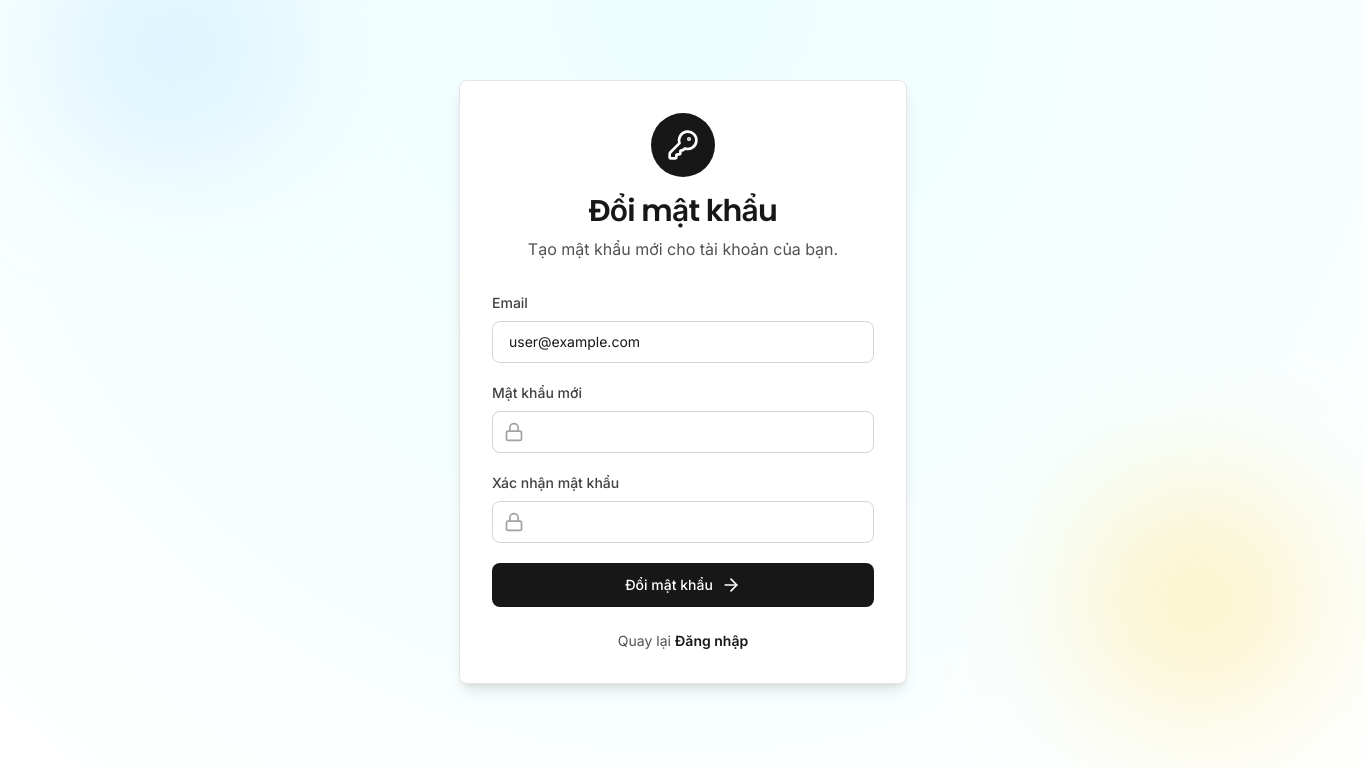
ResetPasswordPage › hien thi loi khi xac nhan mat khau khong khop
Type "12345" into the 1st password field at (683, 432), box 492,411 -> 874,453
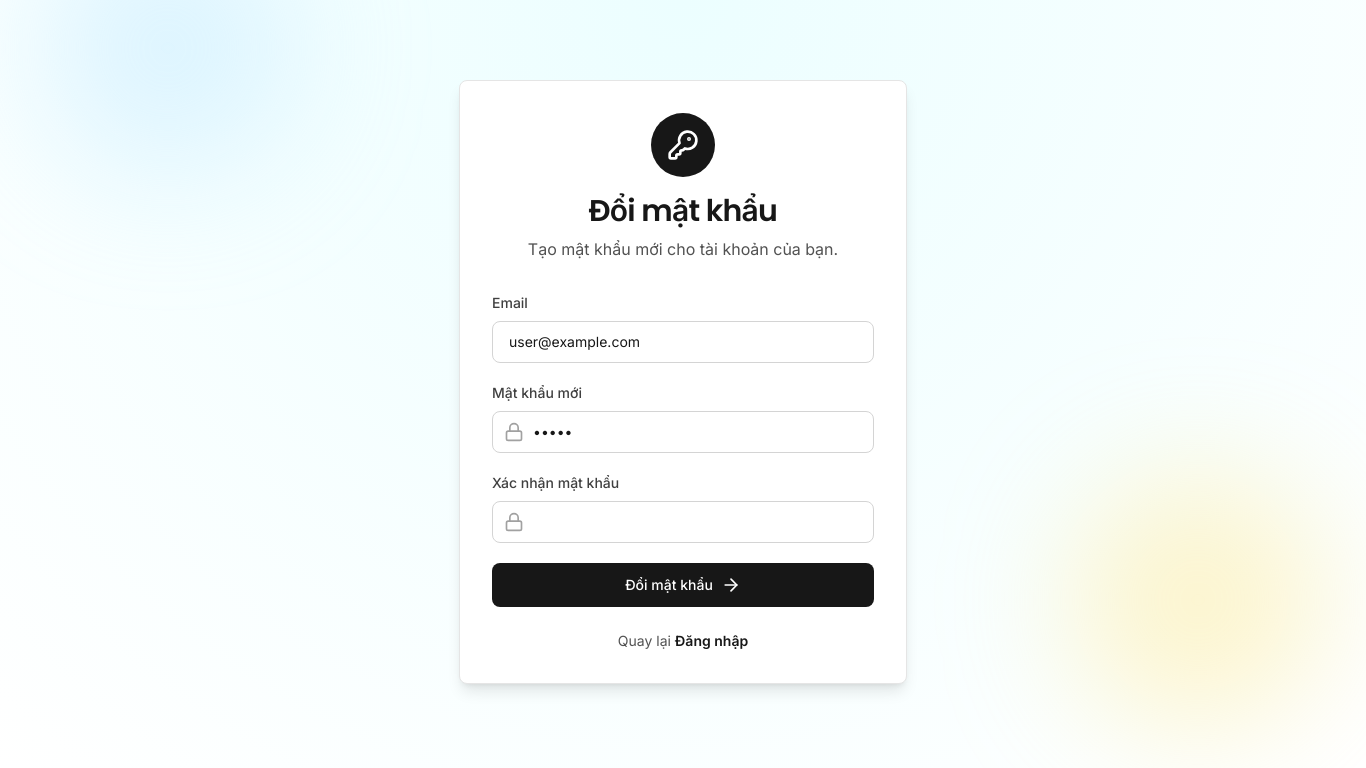
Type "54321" into the password field below "Xác nhận mật khẩu" at (683, 522), box 492,501 -> 874,543
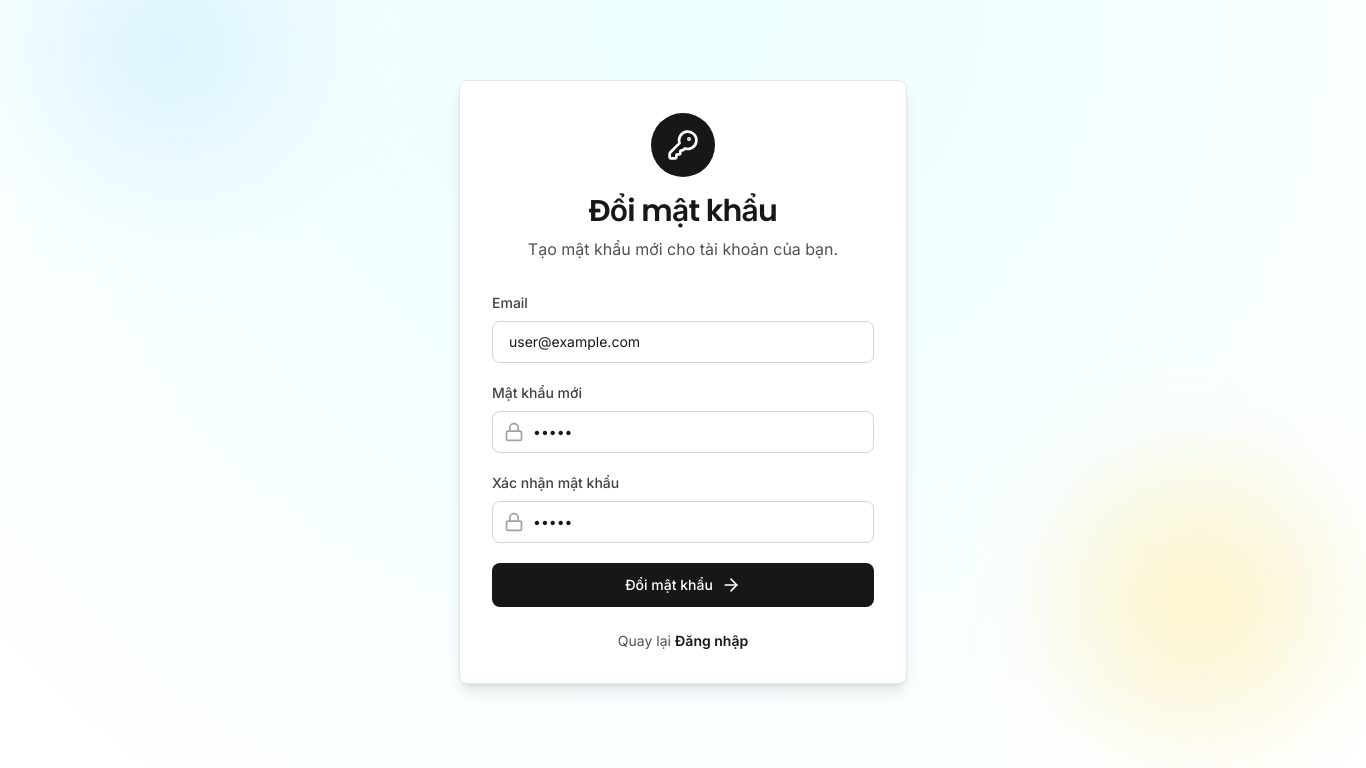
Click the submit button at (683, 585), box 492,563 -> 874,607
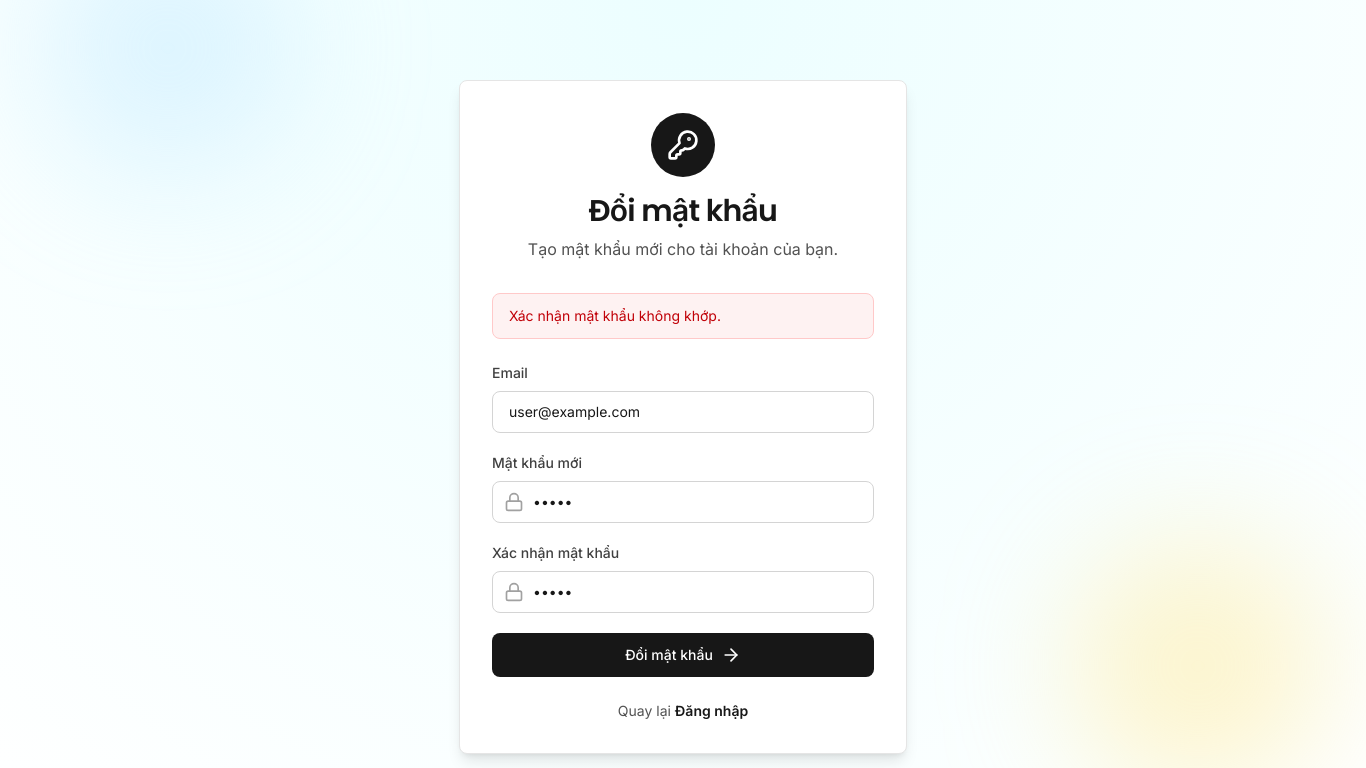
Now the text "Xác nhận mật khẩu không khớp." is shown, box 492,293 -> 874,339
